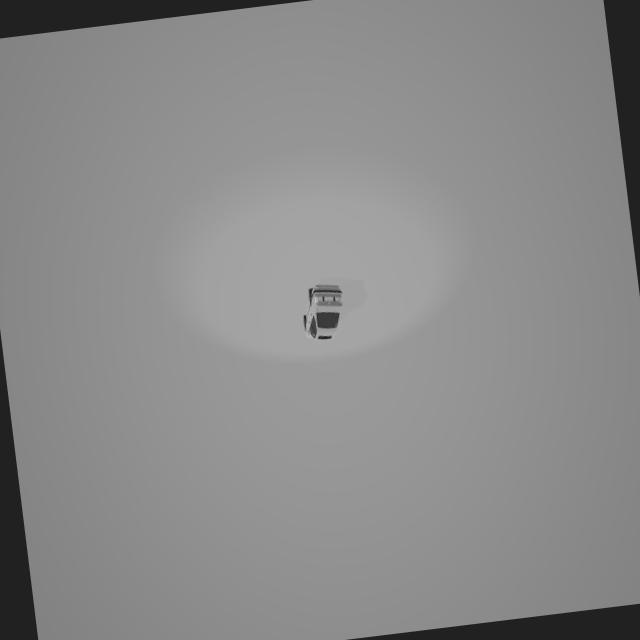Car: (298, 274, 343, 351)
